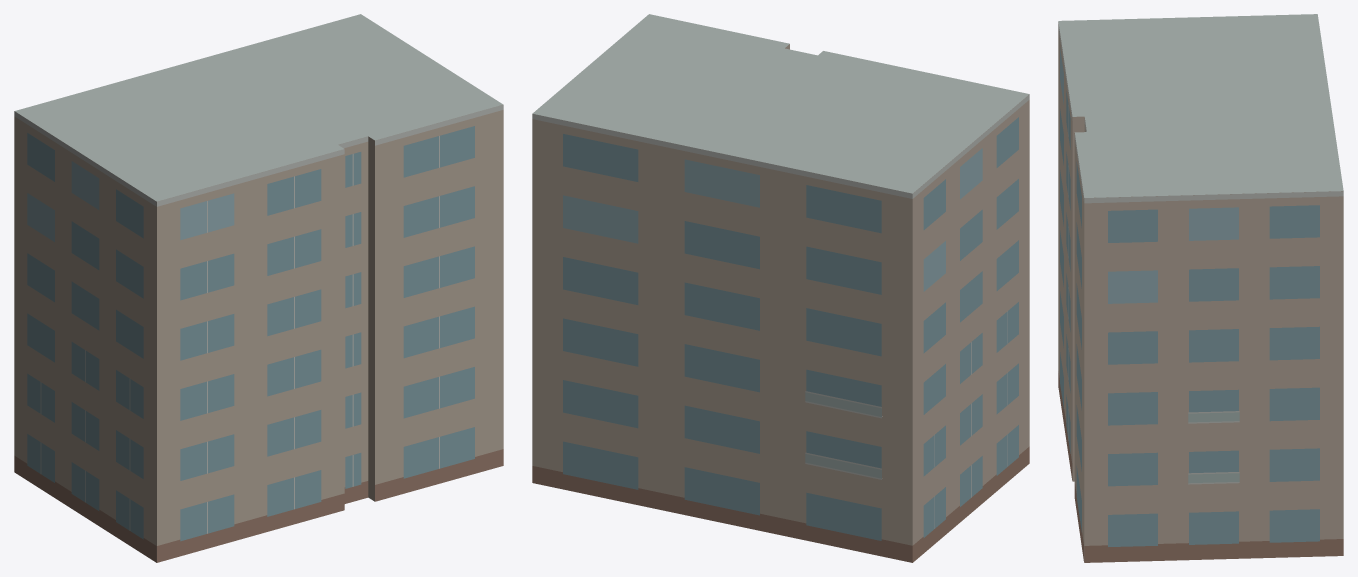
Rendered from survey-upis-33007719.glb.
3 views of the same model, side by side, from view 1: azimuth 30°, elevation 25°; view 2: azimuth 150°, elevation 25°; view 3: azimuth 270°, elevation 25° (orthographic). The views are drawn at different scales.
Parts seen in each view (by area): view 1: survey-upis-33007719.tmp; view 2: survey-upis-33007719.tmp; view 3: survey-upis-33007719.tmp.
Boxes of the visible parts, x1,y1,x2,y2 form: survey-upis-33007719.tmp: (14,14,503,562); survey-upis-33007719.tmp: (532,14,1029,562); survey-upis-33007719.tmp: (1058,14,1343,562).
Bounding box in the file's own units: 18.19 × 16.8 × 11.92.
